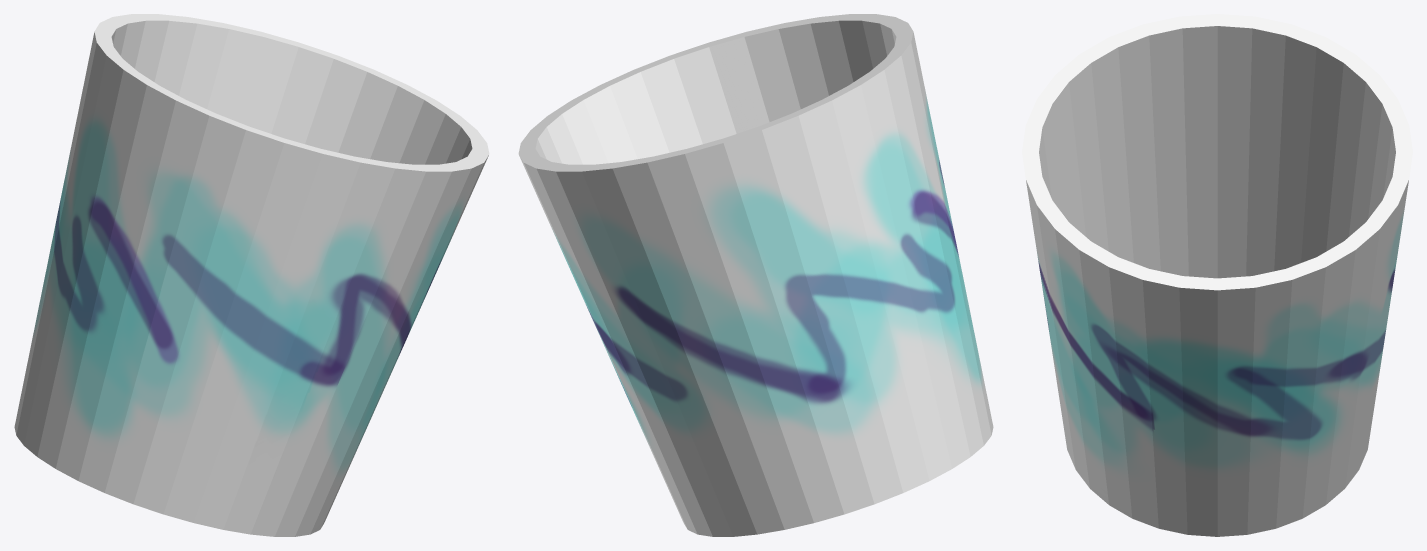
Rendered from Paper_Cup.fbx.
The picture shows the model from 3 angles, left to right: view 1: azimuth 30°, elevation 25°; view 2: azimuth 150°, elevation 25°; view 3: azimuth 270°, elevation 25°; orthographic projection. The views are drawn at different scales.
Visible parts, largest first — view 1: Cylinder; view 2: Cylinder; view 3: Cylinder.
Boxes of the visible parts, x1=… form: Cylinder: x1=14, y1=14, x2=489, y2=536; Cylinder: x1=518, y1=14, x2=993, y2=536; Cylinder: x1=1022, y1=14, x2=1412, y2=536.
Bounding box in the file's own units: 236 × 249 × 200.
Materials: 1 (1 with a texture image).
